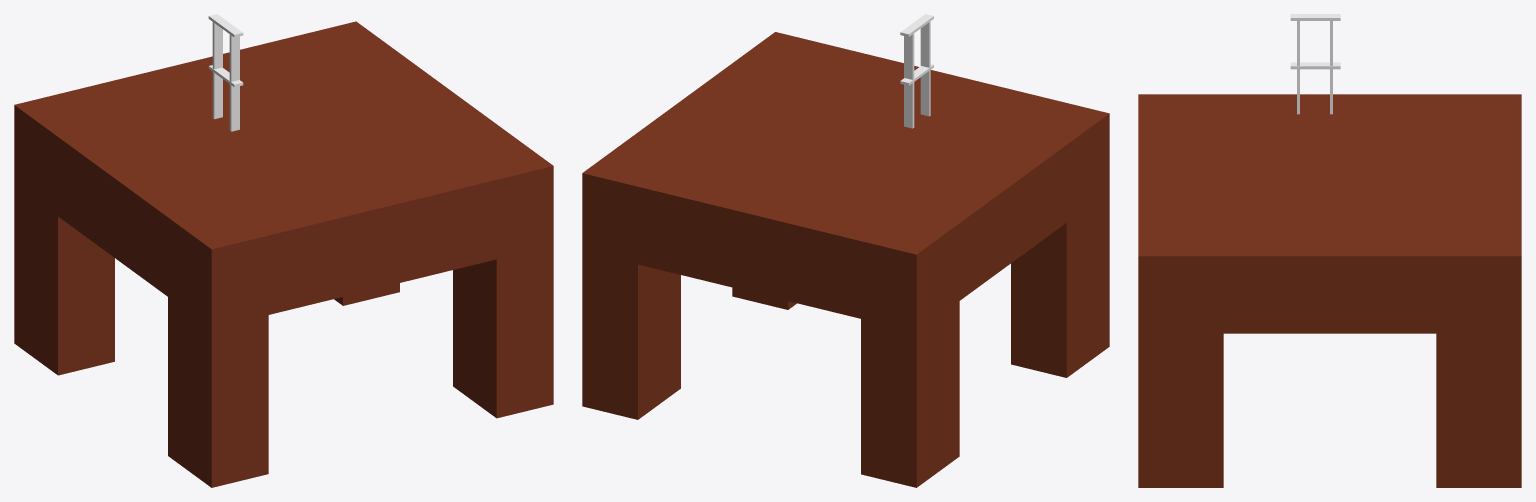
Rendered from keva_double_pi_rotated.dae.
The picture shows the model from 3 angles, left to right: view 1: azimuth 30°, elevation 25°; view 2: azimuth 150°, elevation 25°; view 3: azimuth 270°, elevation 25°; orthographic projection. The views are drawn at different scales.
Visible parts, largest first — view 1: base (×5); view 2: base (×5); view 3: base (×3).
Boxes of the visible parts, x1=… form: base (×5): x1=14, y1=21, x2=553, y2=487; base (×5): x1=582, y1=32, x2=1109, y2=487; base (×3): x1=1138, y1=94, x2=1521, y2=487.
Bounding box in the file's own units: 0.9 × 0.9 × 0.9327.
